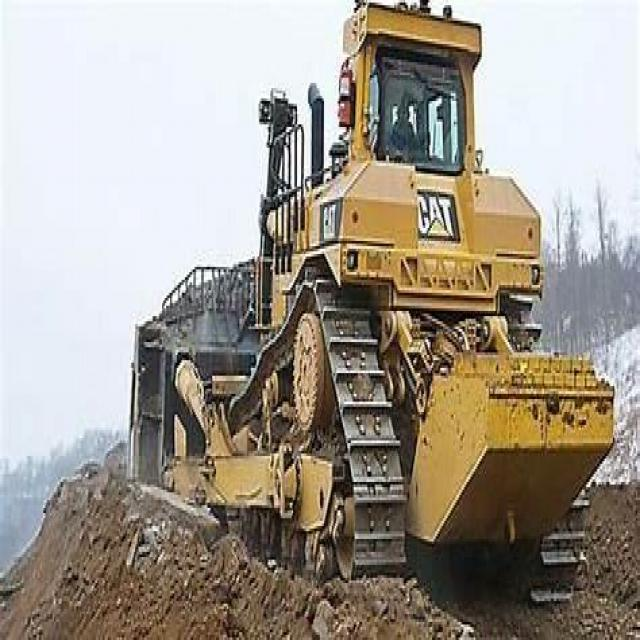Bulldozer: (97, 0, 625, 604)
